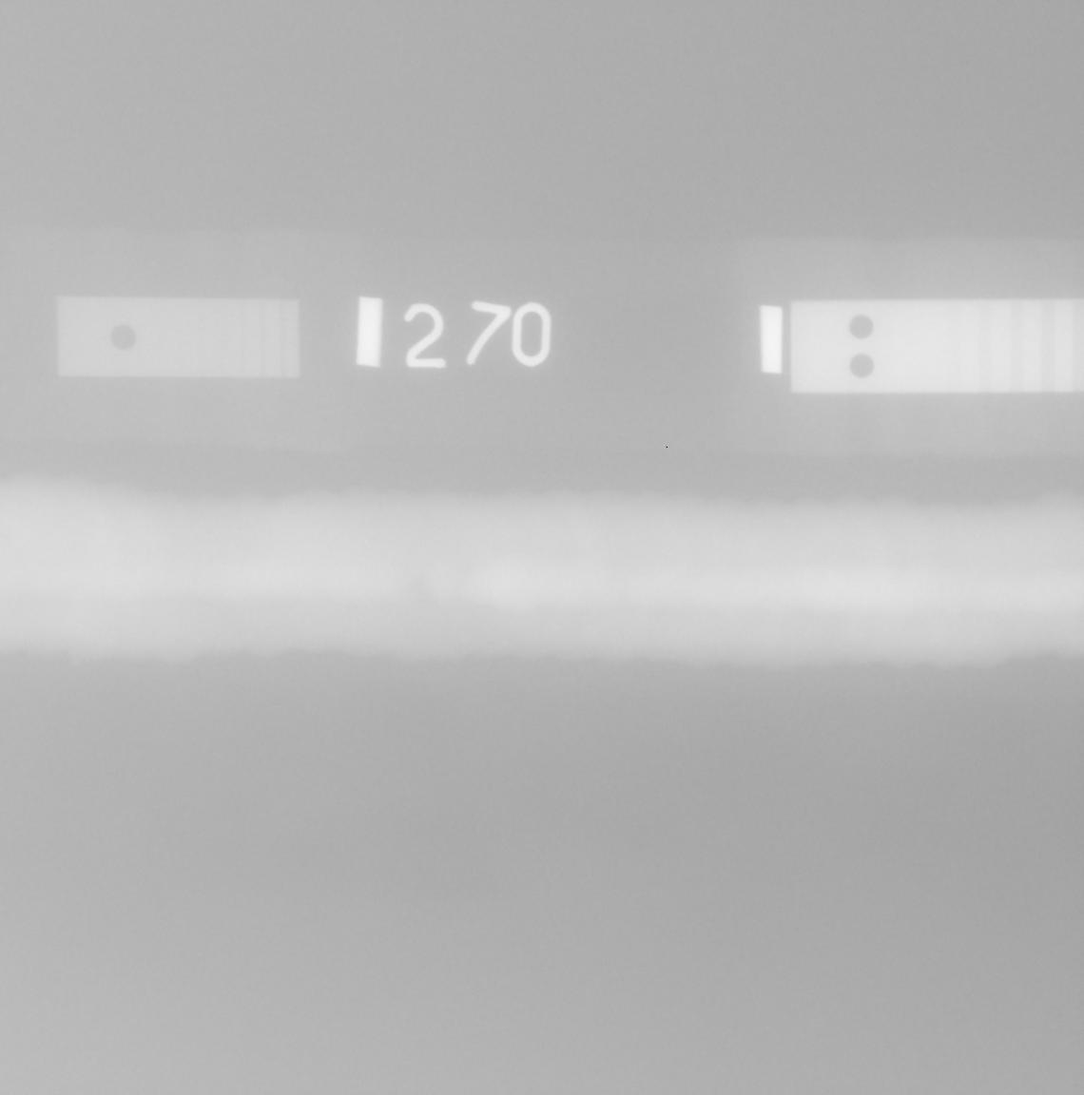Reference Standard 1: (56, 297, 300, 378)
